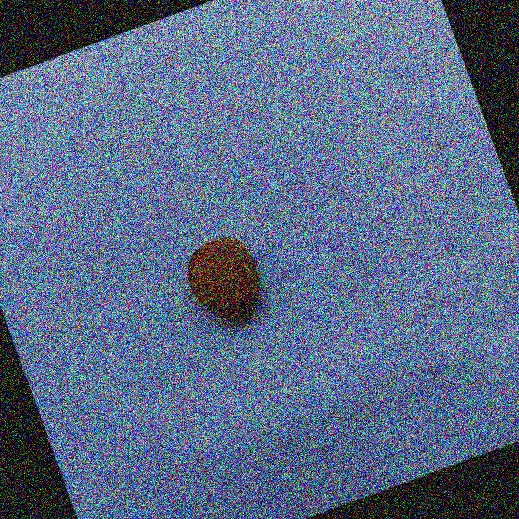grade1: (171, 222, 282, 343)
